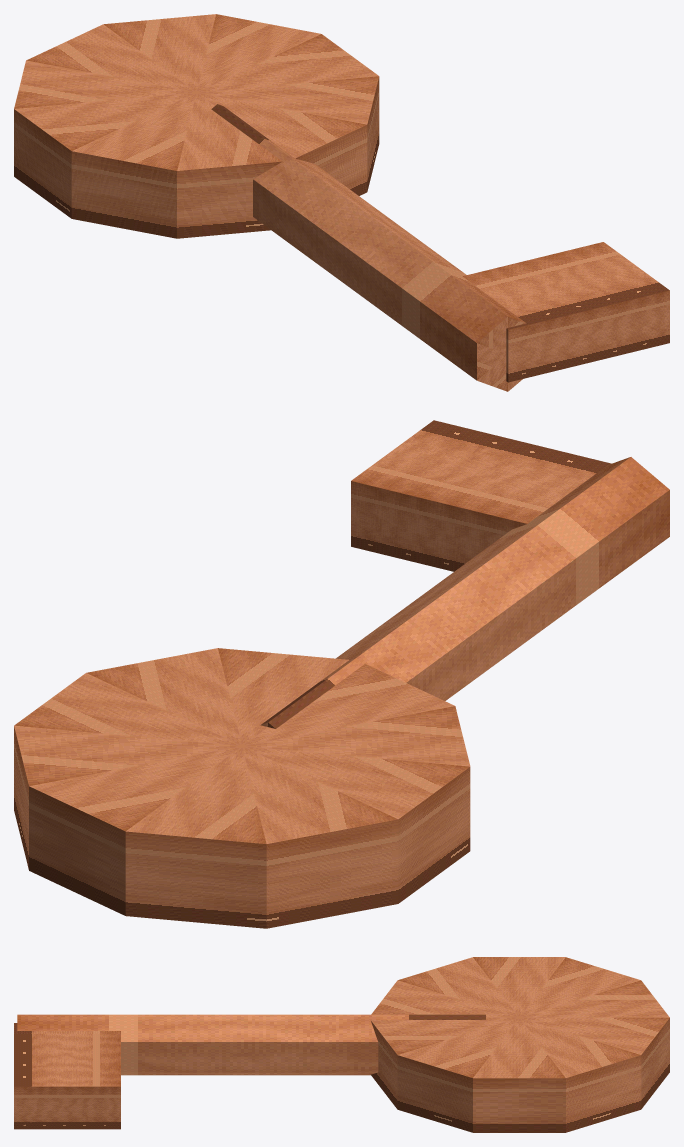
The model's file is chave_nivel_1.glb.
3 views of the same model, one above another, from view 1: azimuth 30°, elevation 25°; view 2: azimuth 150°, elevation 25°; view 3: azimuth 270°, elevation 25° (orthographic). The views are drawn at different scales.
Visible parts, largest first — view 1: chave_nivel_1; view 2: chave_nivel_1; view 3: chave_nivel_1.
Part boxes in pixels (x1,y1,x2,y2): chave_nivel_1: (14,14,669,391); chave_nivel_1: (14,420,669,928); chave_nivel_1: (14,957,669,1132).
Size of the model in its own units: 0.0873 by 0.02 by 0.196.
1 material, 1 textured.
